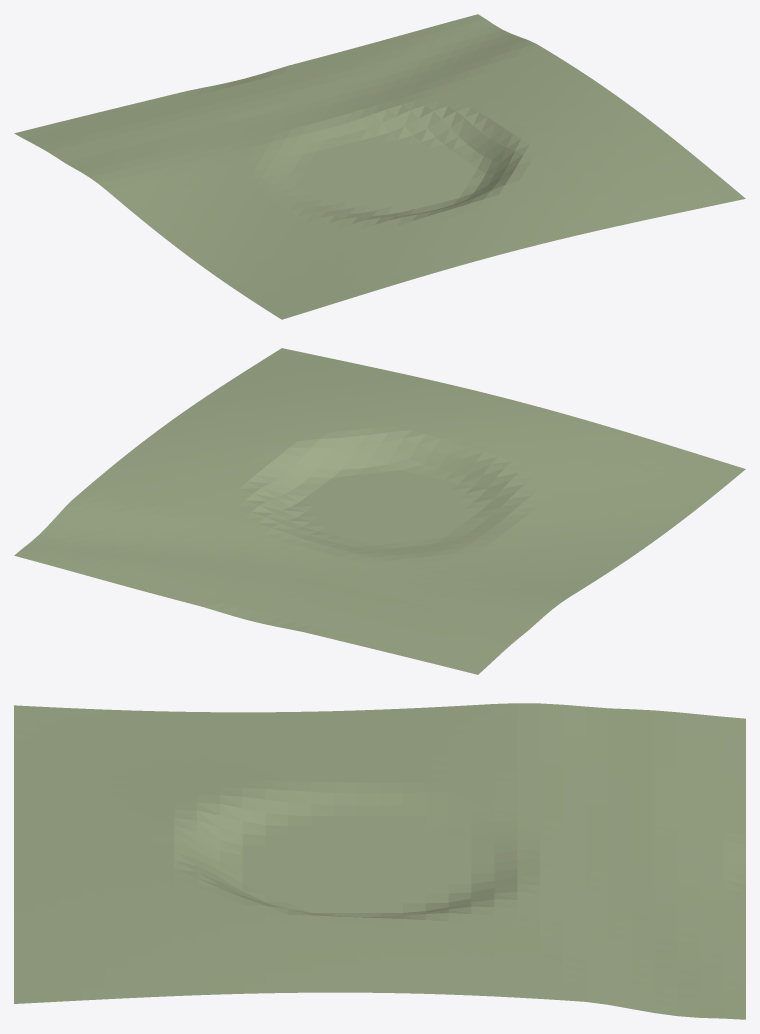
Rendered from coast-1-1.glb.
3 renders of one model, top to bottom at view 1: azimuth 30°, elevation 25°; view 2: azimuth 150°, elevation 25°; view 3: azimuth 270°, elevation 25°, orthographic. The views are drawn at different scales.
Visible parts, largest first — view 1: coast-1-1; view 2: coast-1-1; view 3: coast-1-1.
Boxes of the visible parts, <box> form: coast-1-1: <box>14,14,745,319</box>; coast-1-1: <box>14,348,745,674</box>; coast-1-1: <box>14,703,745,1019</box>.
Size of the model in its own units: 128 by 7.48 by 128.
